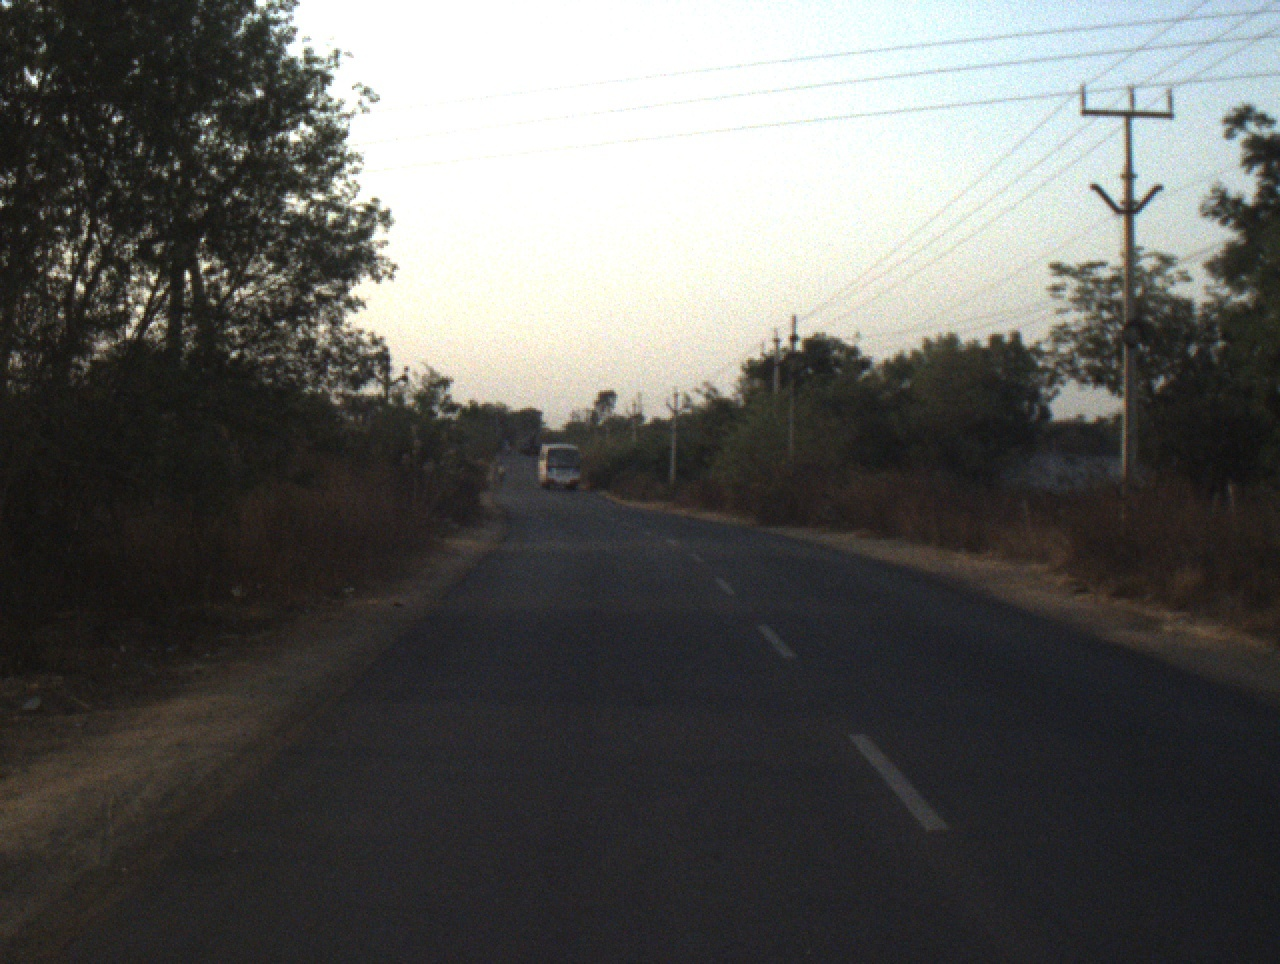bicycle: (497, 473, 504, 486)
bus: (535, 441, 589, 495)
rider: (497, 463, 505, 477)
